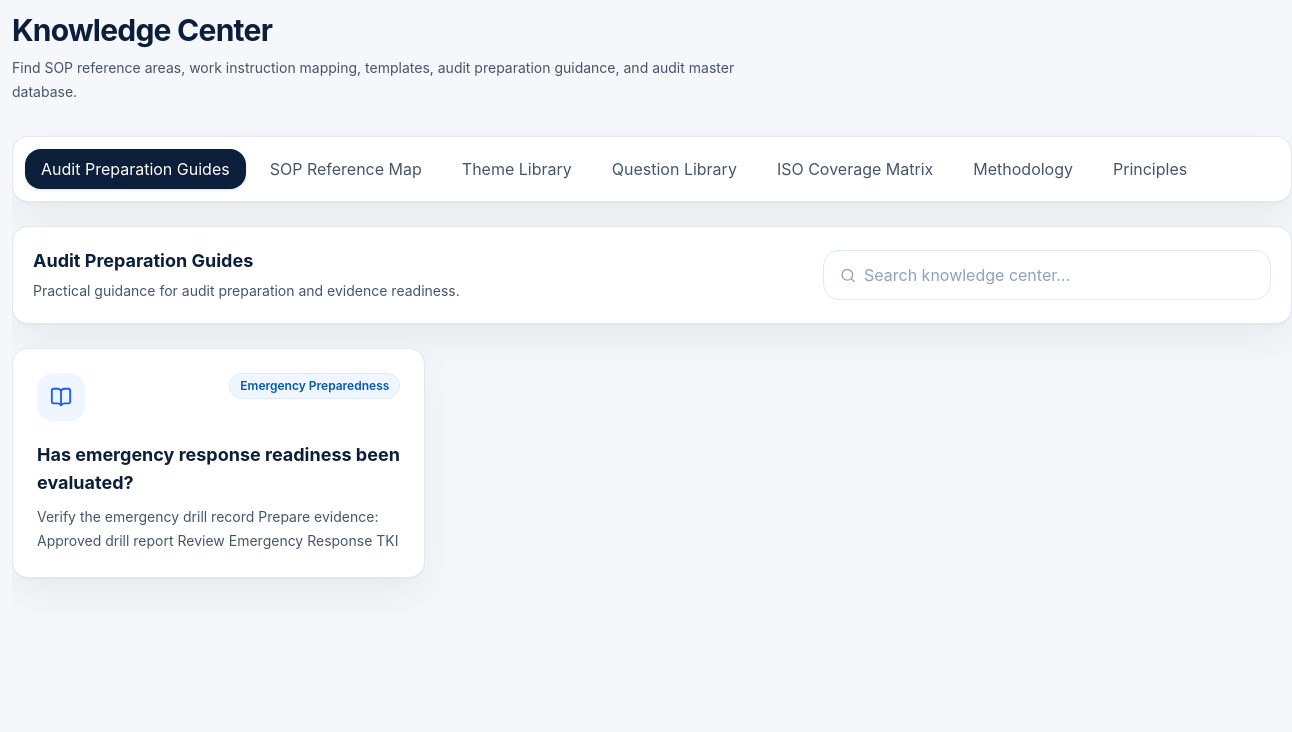
Test: KnowledgeCenter › derives preparation guides and SOP references from PostgreSQL questions
Expected: the heading "Has emergency response readiness been evaluated?" is shown, [37,441,400,497]
Click the button "SOP Reference Map".
click(346, 169)  # box [254,149,438,189]
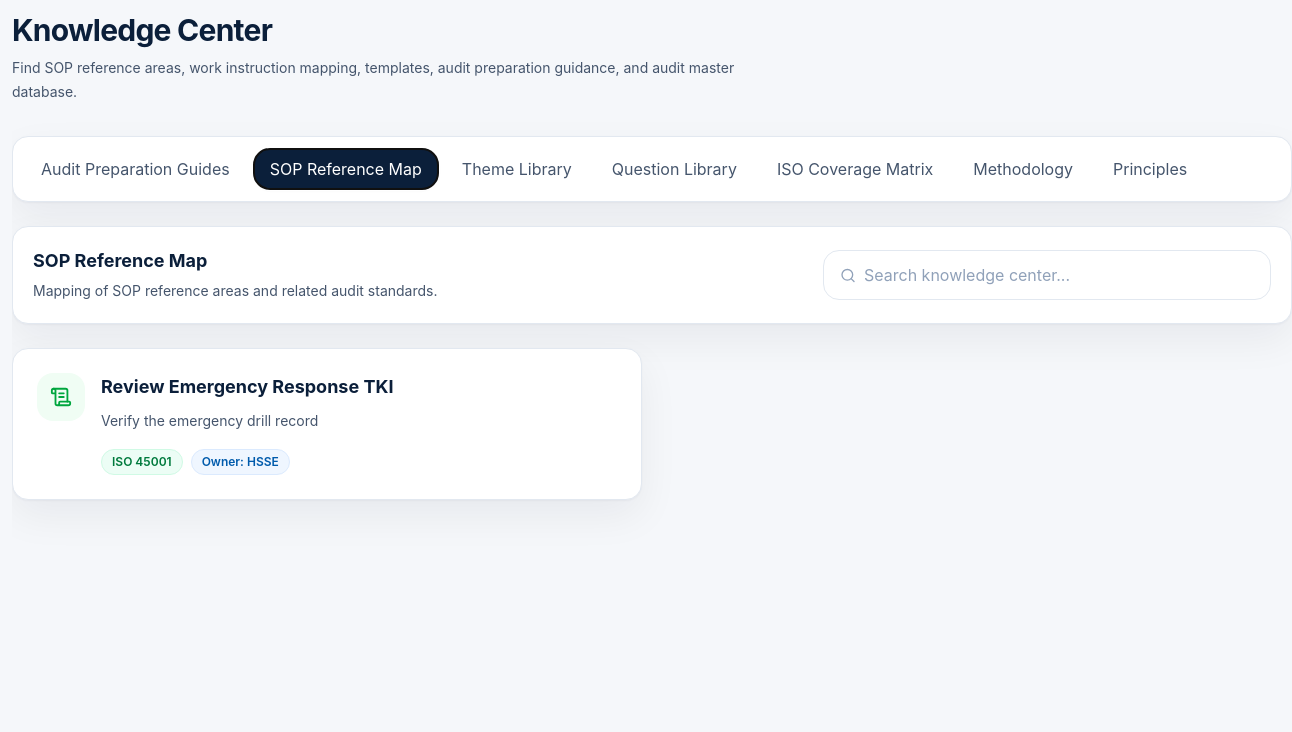
Expected: the heading "Review Emergency Response TKI" is shown, [101,373,393,401]
Result: the text "Owner: HSSE" is shown at [191,449,290,475]
Result: the text "ISO 45001" is shown at [101,449,183,475]
